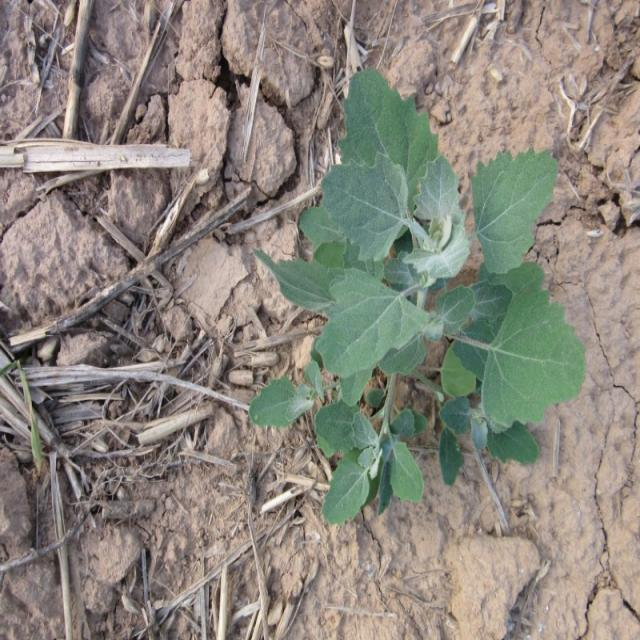ca: (255, 54, 588, 525)
